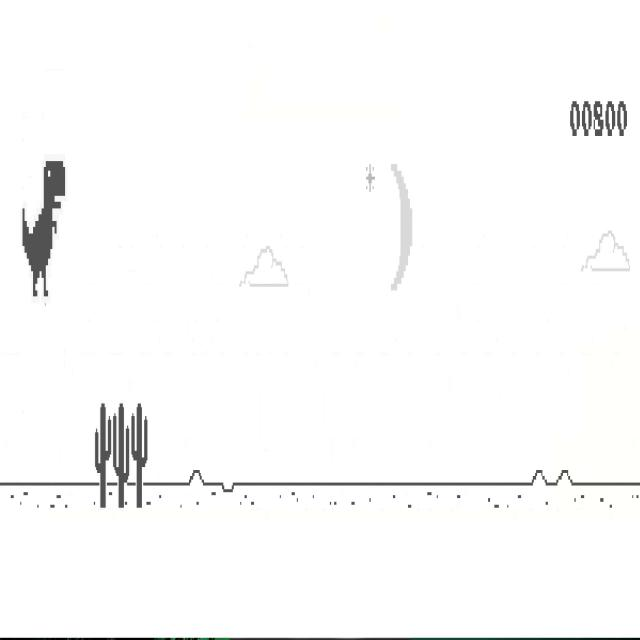cacto: (113, 403, 130, 508), (131, 403, 148, 508), (95, 403, 111, 508)
dino: (23, 160, 66, 298)
